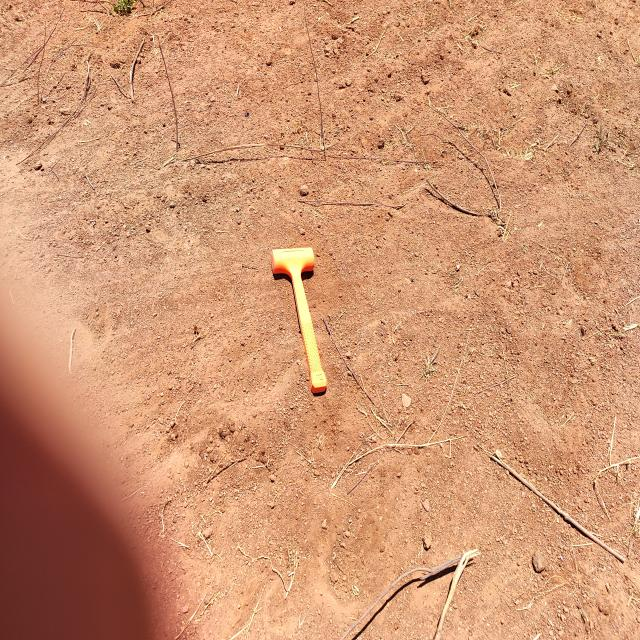Orange_hammer: (270, 246, 328, 396)
